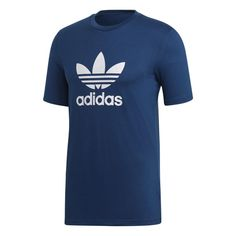adidas Originale: (70, 49, 131, 110)
